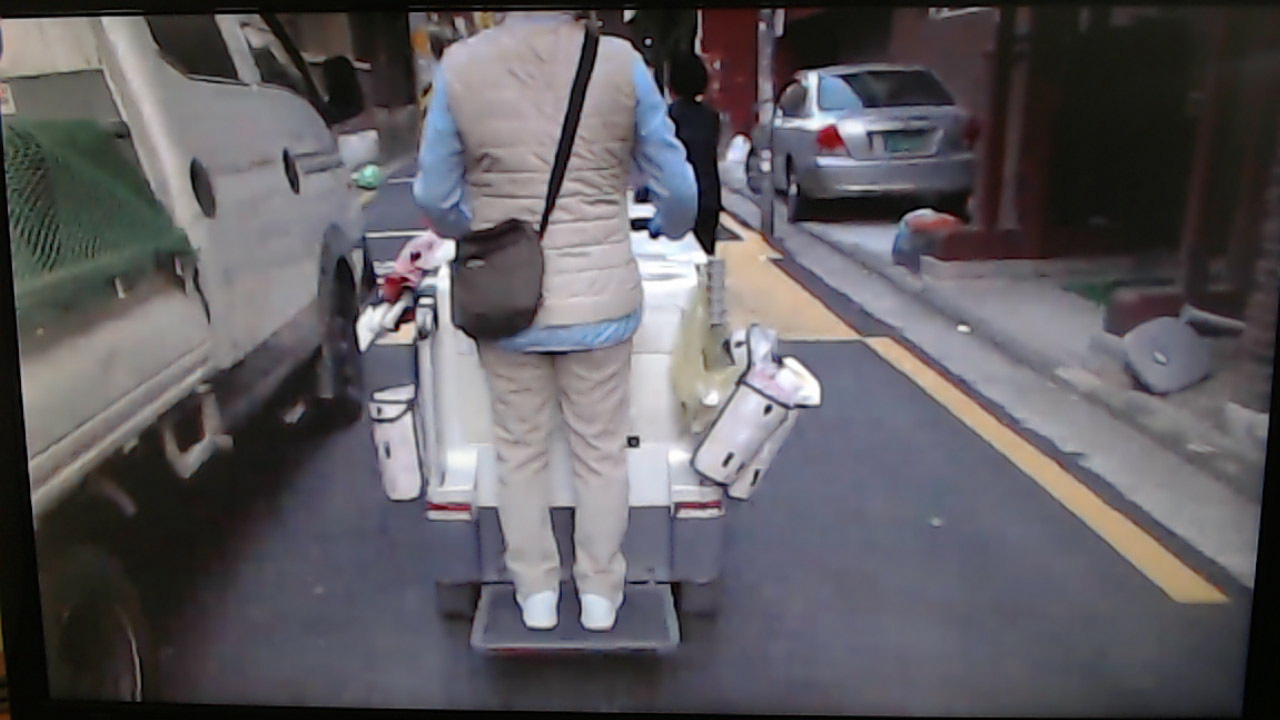Yakurut: (407, 11, 694, 644)
